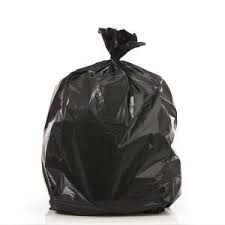Trash: (29, 18, 192, 219)
